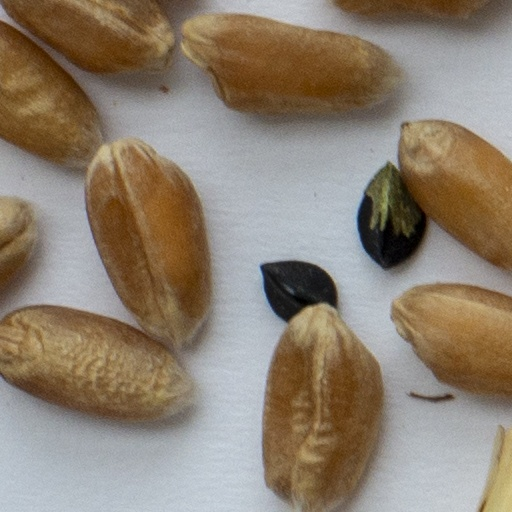Fallopia-Convolvulus-poly: (354, 160, 429, 273), (248, 252, 342, 322)
